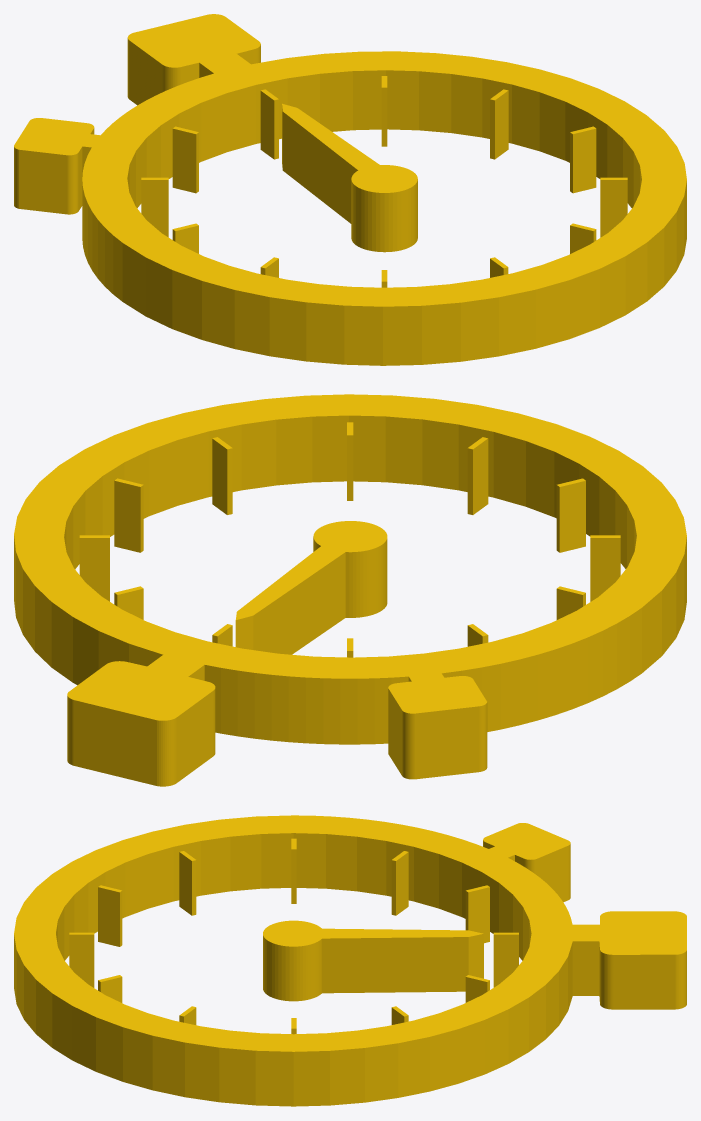
Rendered from stopwatch.fbx.
The picture shows the model from 3 angles, top to bottom: view 1: azimuth 30°, elevation 25°; view 2: azimuth 150°, elevation 25°; view 3: azimuth 270°, elevation 25°; orthographic projection. The views are drawn at different scales.
Parts seen in each view (by area): view 1: path3213; view 2: path3213; view 3: path3213.
Part boxes in pixels (x1,y1,x2,y2): path3213: [14, 14, 686, 365]; path3213: [14, 394, 686, 786]; path3213: [14, 815, 686, 1106].
Size of the model in its own units: 463 by 50 by 557.
